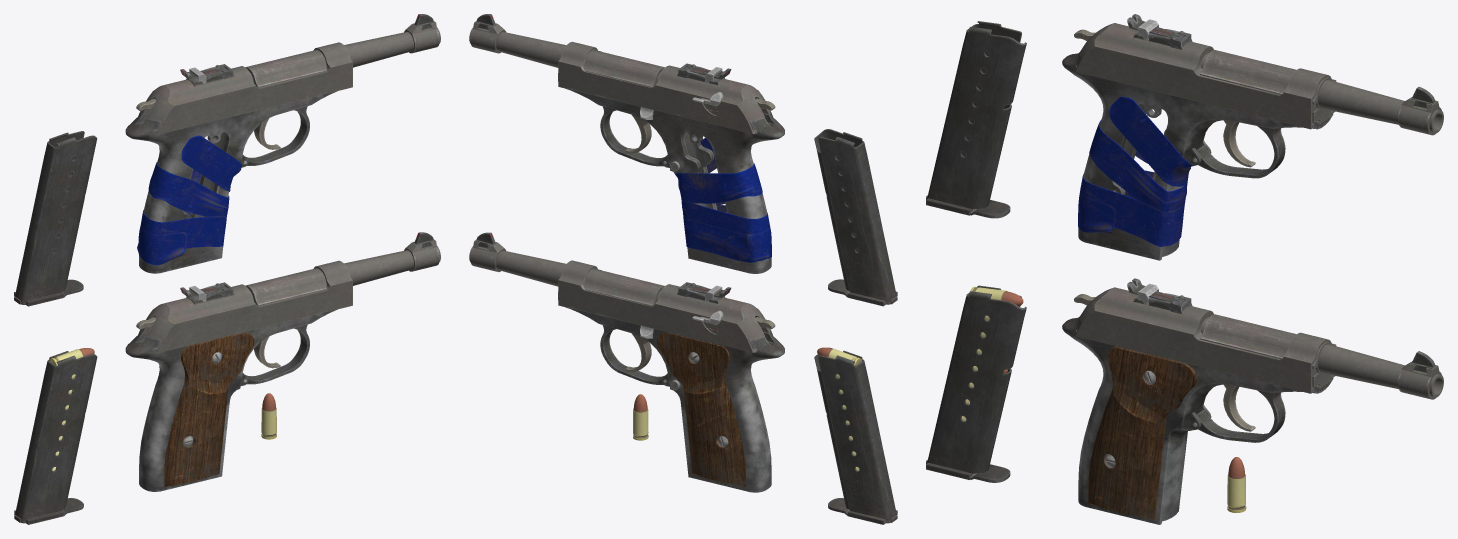
File: service_pistol.glb
3 renders of one model, left to right at view 1: azimuth 30°, elevation 25°; view 2: azimuth 150°, elevation 25°; view 3: azimuth 330°, elevation 25°, orthographic. The views are drawn at different scales.
Parts seen in each view (by area): view 1: service_pistol_pistol_b, service_pistol_pistol_a, service_pistol_magazine_loaded, service_pistol_magazine_empty, service_pistol_slide_a, service_pistol_slide_b, service_pistol_bullet; view 2: service_pistol_pistol_b, service_pistol_pistol_a, service_pistol_magazine_loaded, service_pistol_magazine_empty, service_pistol_slide_a, service_pistol_slide_b, service_pistol_bullet; view 3: service_pistol_pistol_a, service_pistol_pistol_b, service_pistol_magazine_loaded, service_pistol_magazine_empty, service_pistol_slide_b, service_pistol_slide_a, service_pistol_bullet, service_pistol_trigger_b, service_pistol_trigger_a.
Boxes of the visible parts, x1,y1,x2,y2 form: service_pistol_pistol_b: (125, 14, 440, 273); service_pistol_pistol_a: (125, 232, 440, 491); service_pistol_magazine_loaded: (14, 348, 97, 524); service_pistol_magazine_empty: (14, 131, 97, 306); service_pistol_slide_a: (141, 260, 352, 352); service_pistol_slide_b: (141, 42, 352, 134); service_pistol_bullet: (261, 393, 276, 439); service_pistol_pistol_b: (469, 14, 784, 273); service_pistol_pistol_a: (469, 232, 784, 492); service_pistol_magazine_loaded: (814, 347, 897, 524); service_pistol_magazine_empty: (814, 129, 897, 306); service_pistol_slide_a: (558, 260, 772, 352); service_pistol_slide_b: (558, 41, 772, 133); service_pistol_bullet: (633, 394, 648, 440); service_pistol_pistol_a: (1062, 314, 1443, 524); service_pistol_pistol_b: (1062, 50, 1443, 260); service_pistol_magazine_loaded: (926, 285, 1026, 482); service_pistol_magazine_empty: (926, 21, 1026, 218); service_pistol_slide_b: (1075, 14, 1336, 129); service_pistol_slide_a: (1075, 278, 1336, 393); service_pistol_bullet: (1227, 457, 1246, 512); service_pistol_trigger_b: (1223, 120, 1255, 167); service_pistol_trigger_a: (1223, 384, 1255, 431).
Bounding box in the file's own units: 0.3016 × 0.2807 × 0.0318.
1 material, 1 textured.
